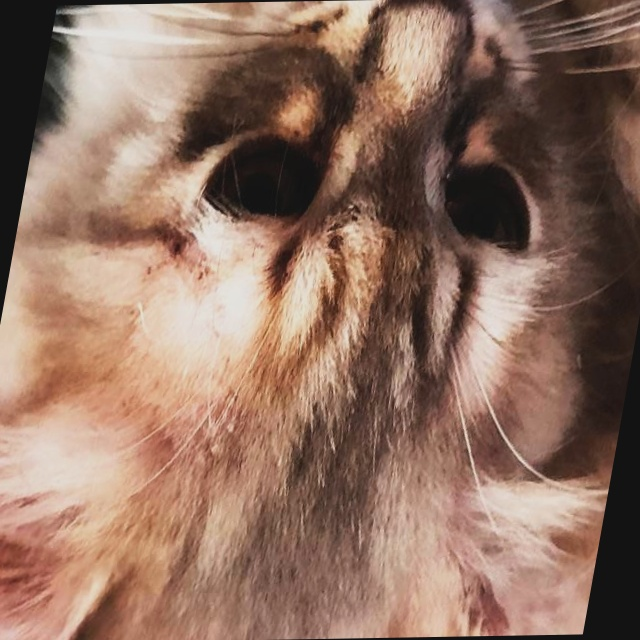hairloss: (170, 235, 277, 348)
